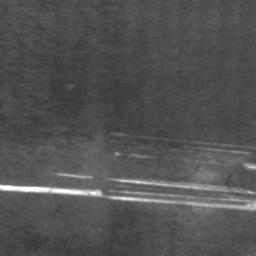Bright scratch: (0, 184, 256, 211), (109, 178, 256, 196), (58, 173, 93, 180)
